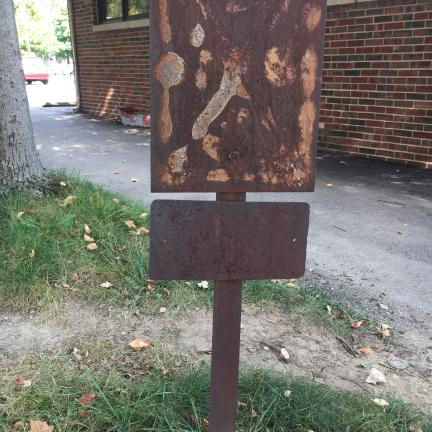karat: (149, 0, 326, 431)
